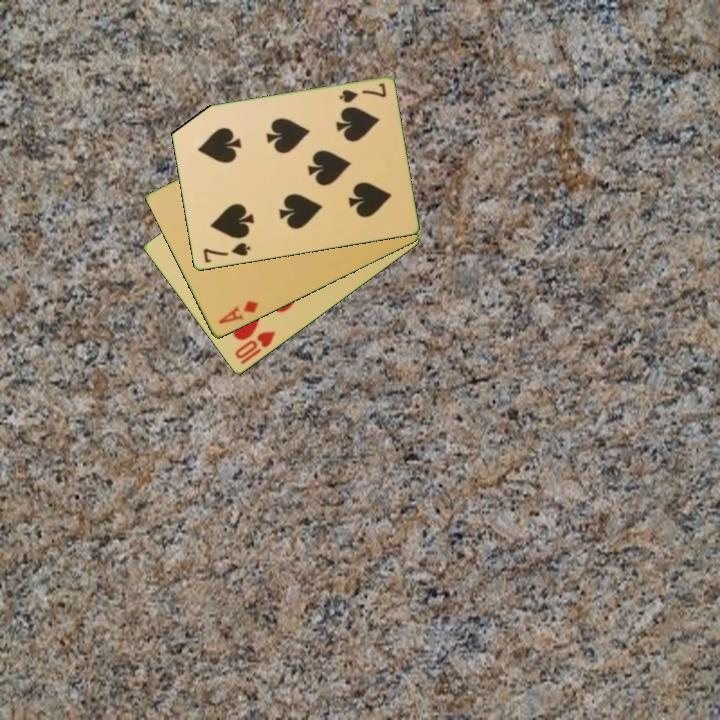10h: (231, 328, 278, 363)
7s: (200, 239, 253, 266), (335, 80, 389, 106)
Ad: (214, 297, 261, 328)
